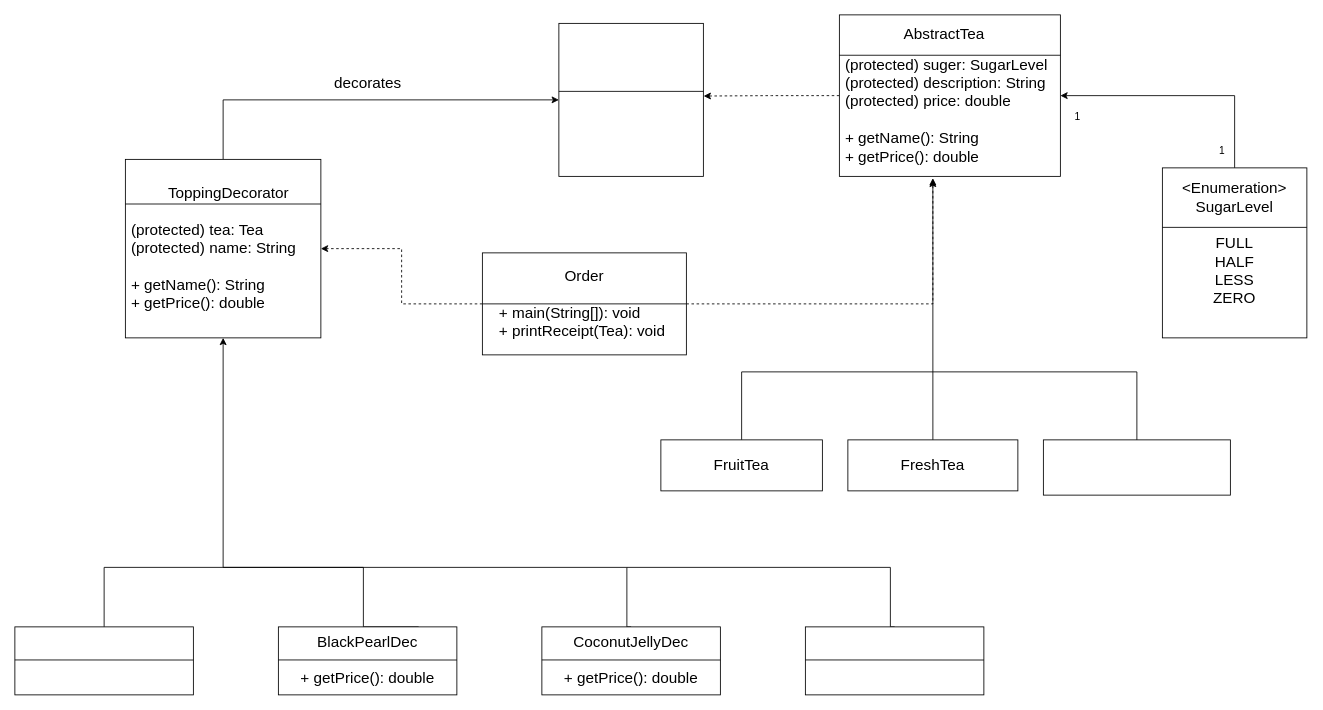
Some shapes in this 1323 by 710 pixel diagram are drawn without their labels. Each missing label, with the centre of its shape:
"<Interface> Tea + getName(): String + getPrice(): double" belongs at point (630, 99).
"MilkTea" belongs at point (1136, 467).
"SagoDec + getPrice(): double" belongs at point (103, 660).
"TaroDec + getPrice(): double" belongs at point (894, 660).
